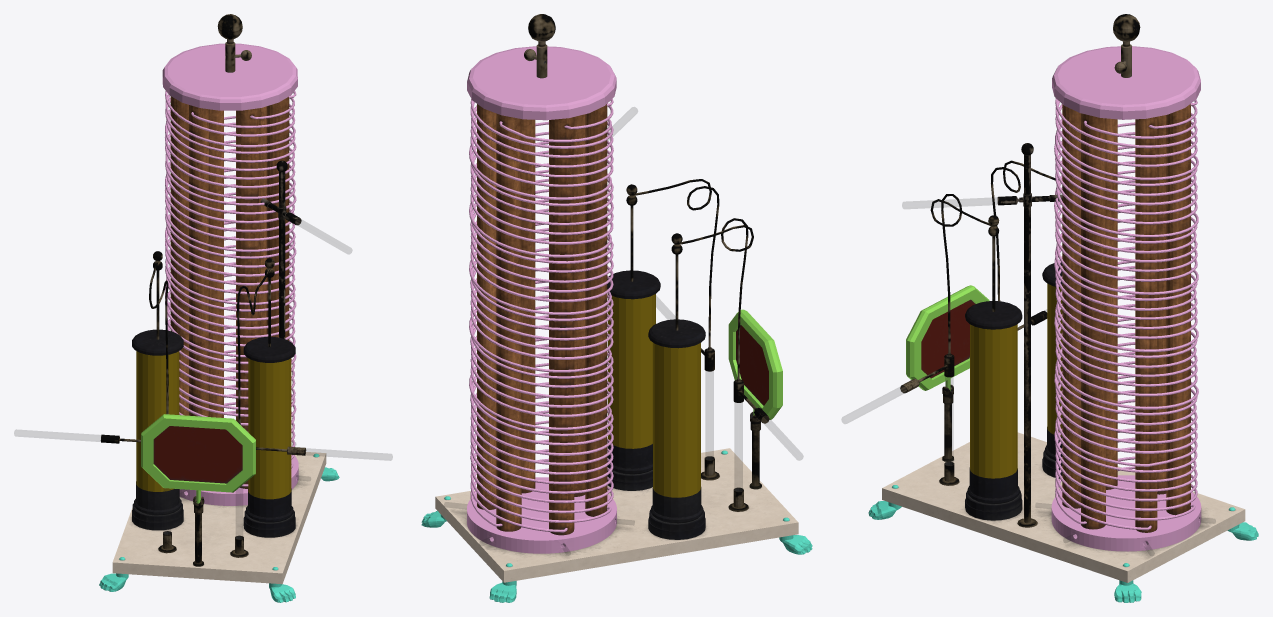
Rendered from Oudin_Resonator.obj.
3 renders of one model, left to right at view 1: azimuth 30°, elevation 25°; view 2: azimuth 150°, elevation 25°; view 3: azimuth 270°, elevation 25°, orthographic. The views are drawn at different scales.
Visible parts, largest first — view 1: Base, Bulb, Coil_Wooden_Cap, Bulb_Caps, Coil_Element_02, Coil_Element_01, Blue_Film, Coil_Element_06, Coil_Element_05, Film_Frame, Coil_Element_03, Turn_Coil_05 (+15 smaller); view 2: Base, Bulb, Coil_Wooden_Cap, Coil_Element_06, Coil_Element_05, Coil_Element_01, Bulb_Caps, Coil_Element_04, Coil_Base, Turn_Coil_03, Turn_Coil_02, Turn_Coil_01 (+14 smaller); view 3: Base, Bulb, Coil_Wooden_Cap, Coil_Element_03, Coil_Element_05, Coil_Element_04, Coil_Element_02, Coil_Base, Turn_Coil_02, Turn_Coil_05, Turn_Coil_01, Turn_Coil_06 (+16 smaller).
Boxes of the visible parts, x1,y1,x2,y2 form: Base: [112, 452, 326, 584]; Bulb: [136, 351, 291, 499]; Coil_Wooden_Cap: [162, 43, 297, 110]; Bulb_Caps: [132, 329, 295, 537]; Coil_Element_02: [236, 108, 258, 488]; Coil_Element_01: [189, 105, 208, 416]; Blue_Film: [153, 426, 242, 483]; Coil_Element_06: [170, 96, 188, 415]; Coil_Element_05: [209, 109, 223, 417]; Film_Frame: [141, 414, 255, 503]; Coil_Element_03: [266, 97, 289, 340]; Turn_Coil_05: [165, 94, 295, 446]; Base: [435, 448, 798, 582]; Bulb: [608, 294, 700, 497]; Coil_Wooden_Cap: [467, 46, 616, 120]; Coil_Element_06: [549, 117, 574, 535]; Coil_Element_05: [496, 113, 521, 531]; Coil_Element_01: [585, 104, 607, 516]; Bulb_Caps: [607, 270, 705, 539]; Coil_Element_04: [477, 104, 496, 509]; Coil_Base: [467, 477, 616, 553]; Turn_Coil_03: [470, 101, 613, 503]; Turn_Coil_02: [470, 105, 613, 513]; Turn_Coil_01: [470, 99, 613, 522]; Base: [882, 432, 1245, 582]; Bulb: [970, 283, 1062, 478]; Coil_Wooden_Cap: [1052, 46, 1200, 119]; Coil_Element_03: [1081, 113, 1105, 529]; Coil_Element_05: [1166, 104, 1190, 515]; Coil_Element_04: [1135, 117, 1157, 532]; Coil_Element_02: [1062, 104, 1080, 508]; Coil_Base: [1051, 475, 1201, 551]; Turn_Coil_02: [1055, 98, 1197, 496]; Turn_Coil_05: [1055, 99, 1198, 520]; Turn_Coil_01: [1055, 100, 1197, 501]; Turn_Coil_06: [1055, 104, 1197, 511].
Bounding box in the file's own units: 66.33 × 92.13 × 65.68.
7 materials, 2 textured.
